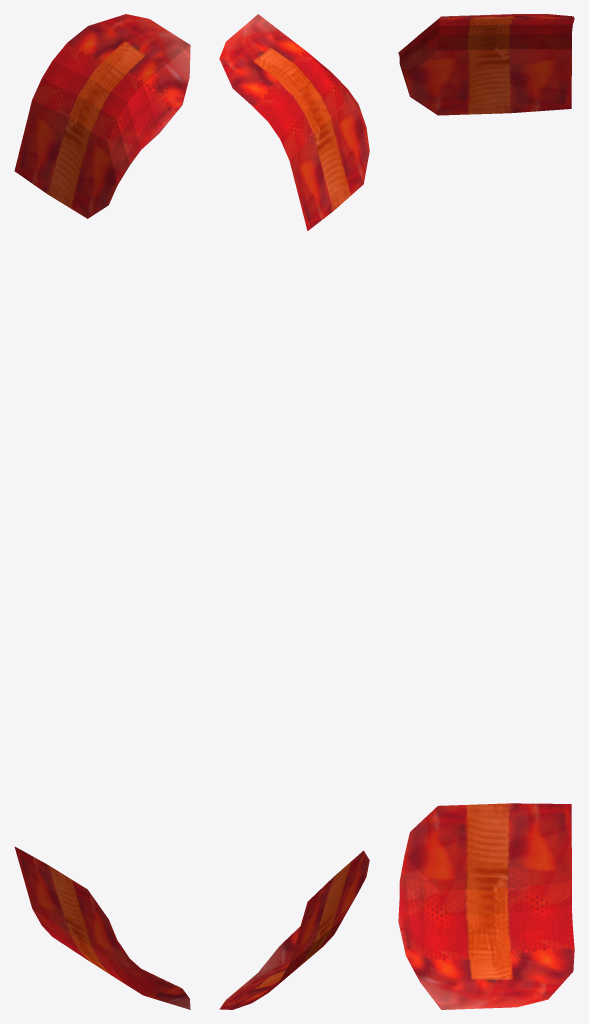
File: brakes_on.obj
3 views of the same model, side by side, from view 1: azimuth 30°, elevation 25°; view 2: azimuth 150°, elevation 25°; view 3: azimuth 270°, elevation 25° (orthographic). The views are drawn at different scales.
Parts seen in each view (by area): view 1: 1_-_Default; view 2: 1_-_Default; view 3: 1_-_Default.
Boxes of the visible parts, left/top/right/bottom form: 1_-_Default: left=14, top=14, right=190, bottom=1009; 1_-_Default: left=219, top=14, right=369, bottom=1009; 1_-_Default: left=398, top=14, right=574, bottom=1009.
Bounding box in the file's own units: 0.1825 × 1.49 × 0.2399.
Materials: 1 (1 with a texture image).
